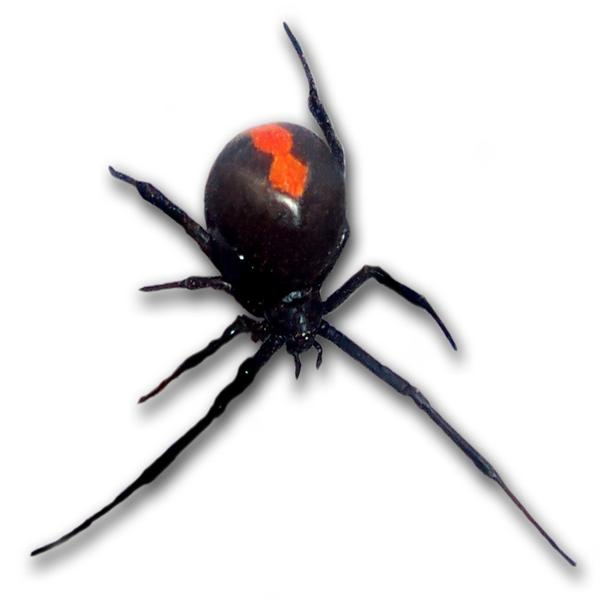Redback Spider: (66, 55, 543, 562)
